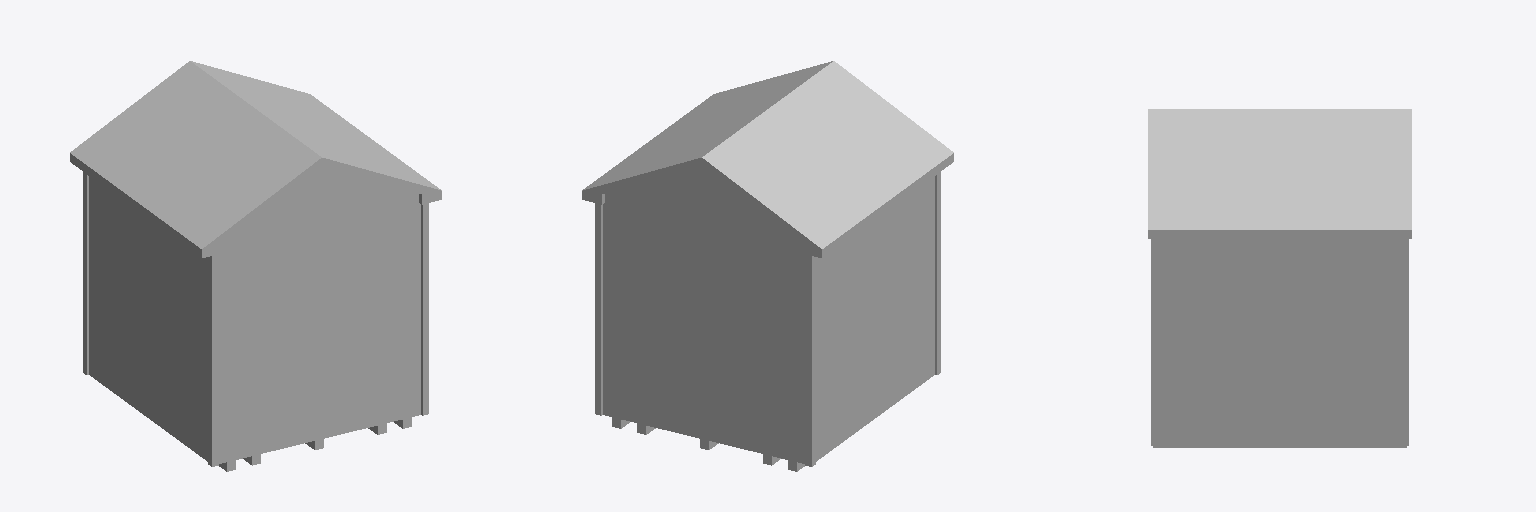
Rendered from 8 wide A-frame_7ft_8x8.obj.
3 views of the same model, side by side, from view 1: azimuth 30°, elevation 25°; view 2: azimuth 150°, elevation 25°; view 3: azimuth 270°, elevation 25° (orthographic).
Visible parts, largest first — view 1: 8 wide A-frame_7ft_8x8.obj; view 2: 8 wide A-frame_7ft_8x8.obj; view 3: 8 wide A-frame_7ft_8x8.obj.
Part boxes in pixels (x1,y1,x2,y2): 8 wide A-frame_7ft_8x8.obj: (70,61,441,471); 8 wide A-frame_7ft_8x8.obj: (582,61,953,471); 8 wide A-frame_7ft_8x8.obj: (1148,109,1411,447).
Size of the model in its own units: 2.67 by 3.12 by 2.54.